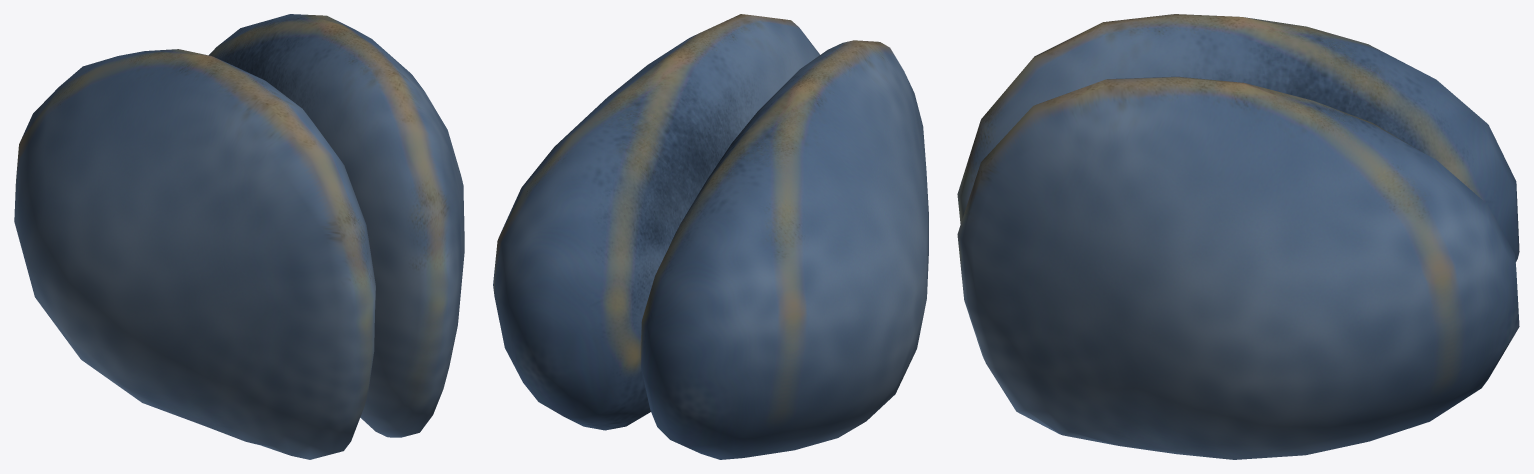
The model's file is Thalamus.FBX.
3 renders of one model, left to right at view 1: azimuth 30°, elevation 25°; view 2: azimuth 150°, elevation 25°; view 3: azimuth 270°, elevation 25°, orthographic. The views are drawn at different scales.
Parts seen in each view (by area): view 1: Thalamus; view 2: Thalamus; view 3: Thalamus.
Part boxes in pixels (box(x1,y1,x2,y2)): Thalamus: box(14, 14, 464, 459); Thalamus: box(493, 14, 928, 459); Thalamus: box(957, 14, 1519, 459).
Bounding box in the file's own units: 26.38 × 32.02 × 23.
